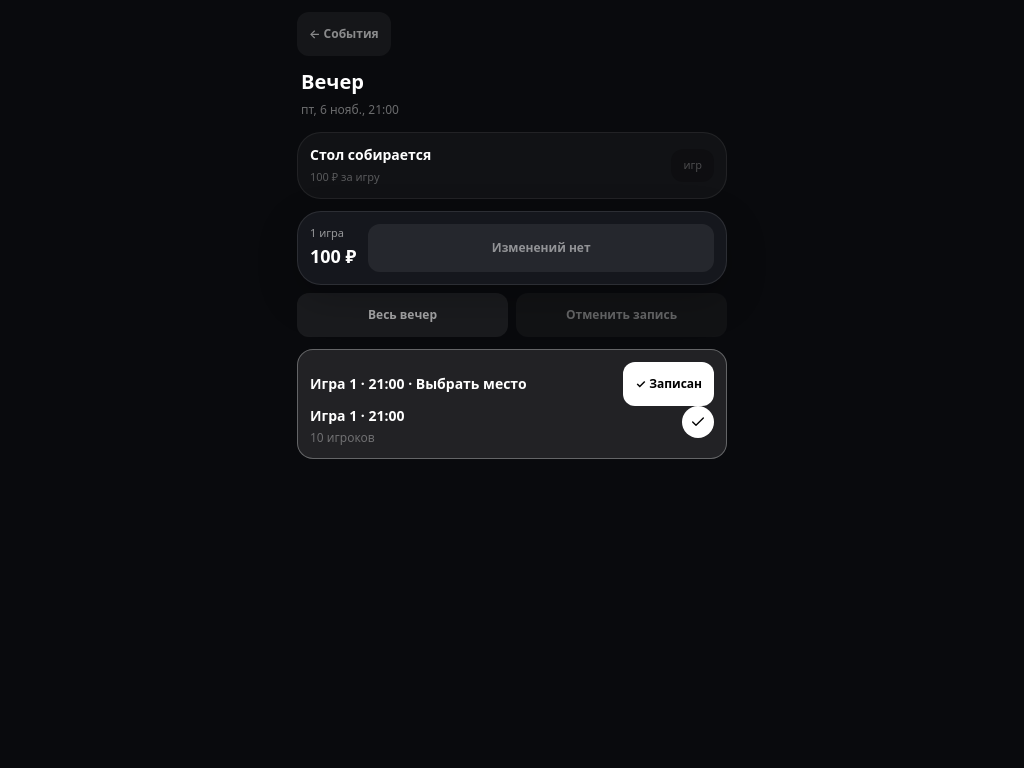
Scenario: confirms cancellation, preserves the booking on failure, and retries through the canonical slot save
Click the button "Отменить запись": (622, 314) x1=516 y1=292 x2=727 y2=336
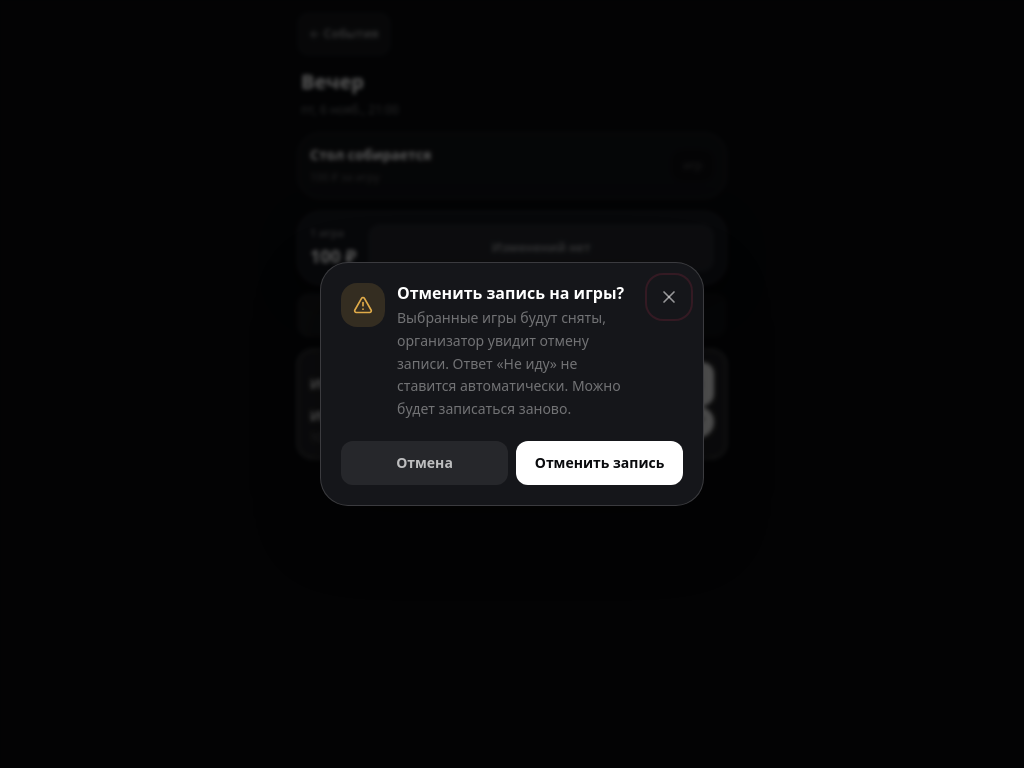
Click the button "Отменить запись": (600, 463) x1=516 y1=441 x2=683 y2=485
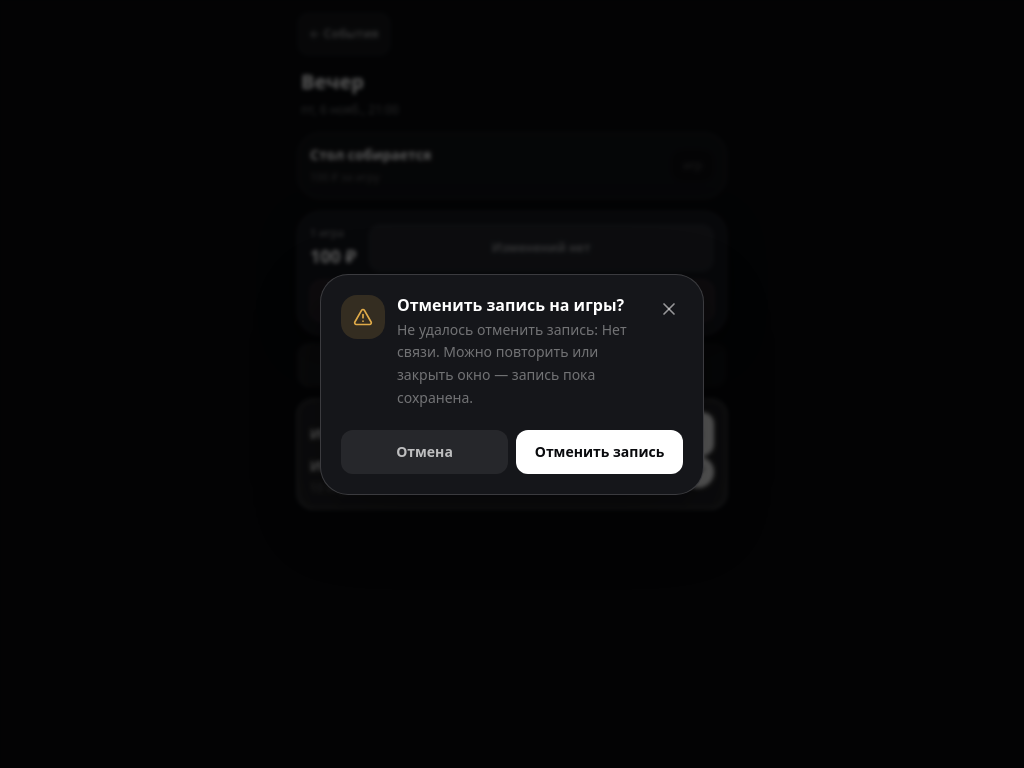
Expected: the text "Запись отменена" is not shown
Now the text "Не удалось отменить запись: Нет связи" is shown, box x1=397 y1=320 x2=627 y2=407
Click the button "Отменить запись": (600, 452) x1=516 y1=430 x2=683 y2=474
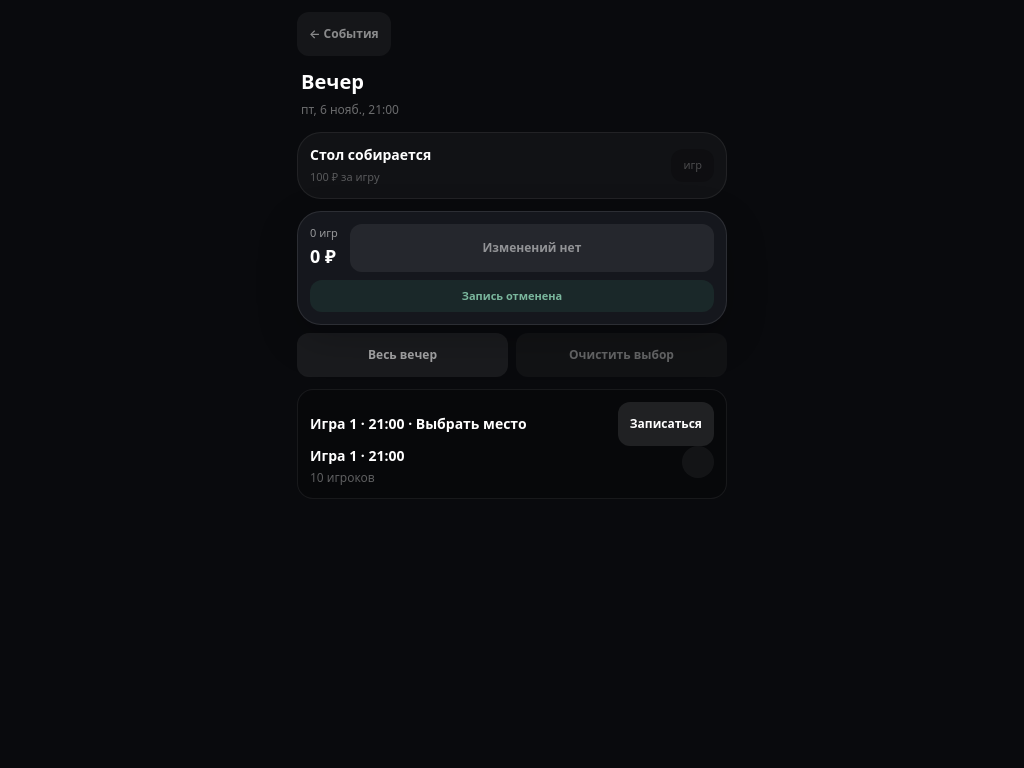
Now the text "Запись отменена" is shown, box x1=310 y1=280 x2=714 y2=312
